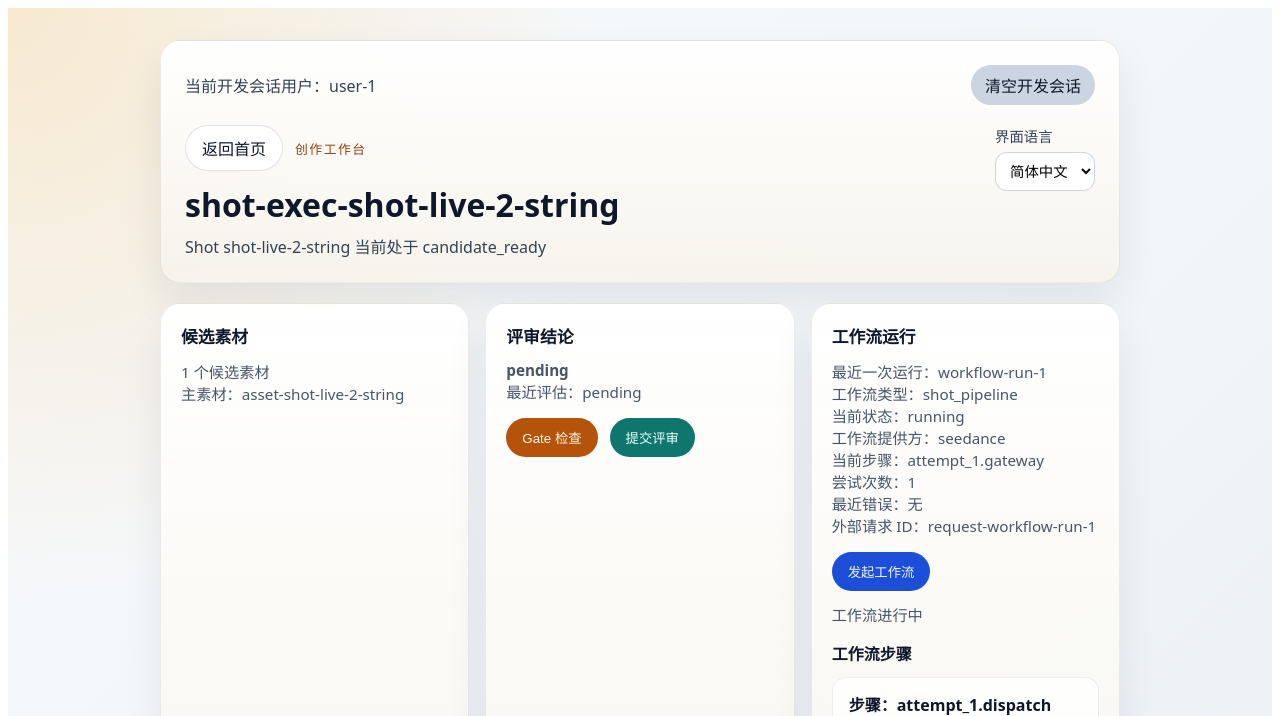
Scenario: App › surfaces string rejections from gate checks without collapsing them into a generic shot error
This screenshot has width=1280, height=716.
Expected: the heading "shot-exec-shot-live-2-string" is shown, [185,183,620,226]
Click the button "Gate 检查".
click(552, 438)  # box [506,418,598,457]
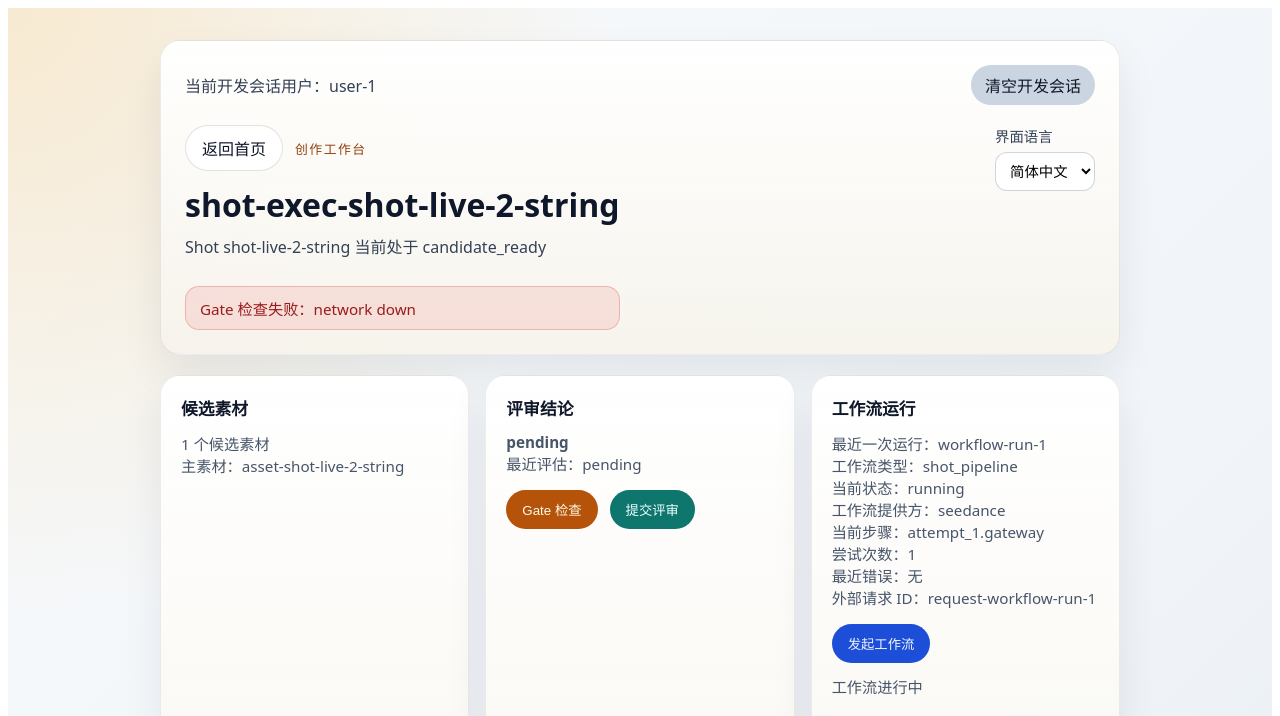
Result: the text "Gate 检查失败：network down" is shown at [200,299,416,319]
